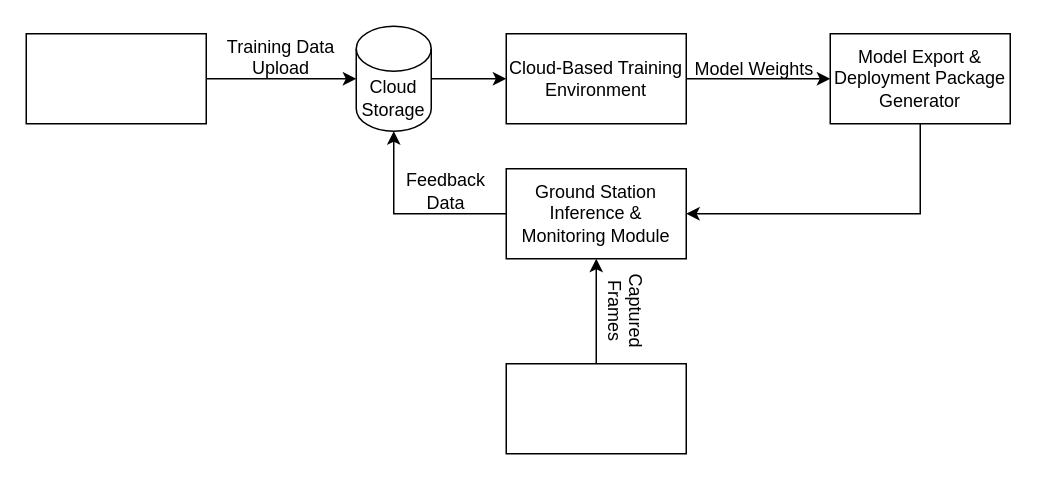
Image size: 1037x480. Some labels were removed from this diagram. Each missing label, with the centre of its shape:
"LPR Dataset" belongs at (115,78).
"Video Data Acquisition" belongs at (595,408).
